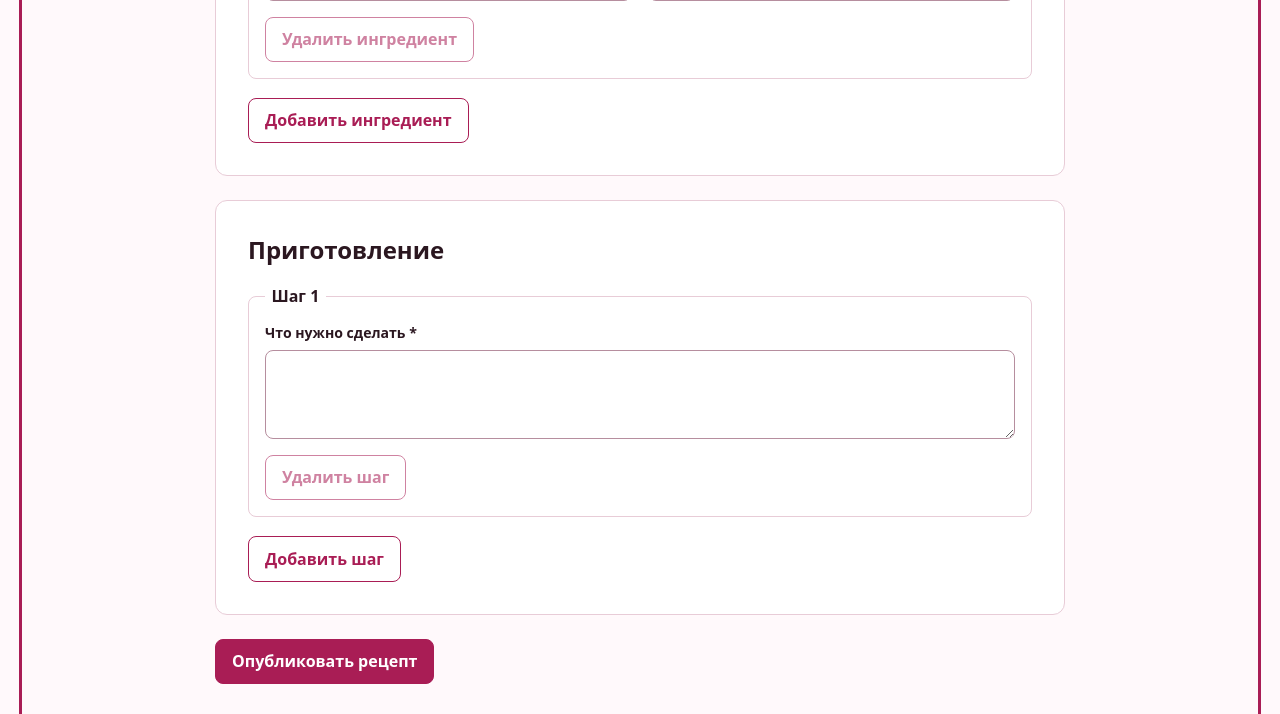
Test: Публикация в общем приложении › фокусирует ошибочное поле при отправке пустой формы
(page scrolled)
Click the button "Опубликовать рецепт": click(325, 661) [215, 638, 434, 684]
(page scrolled)
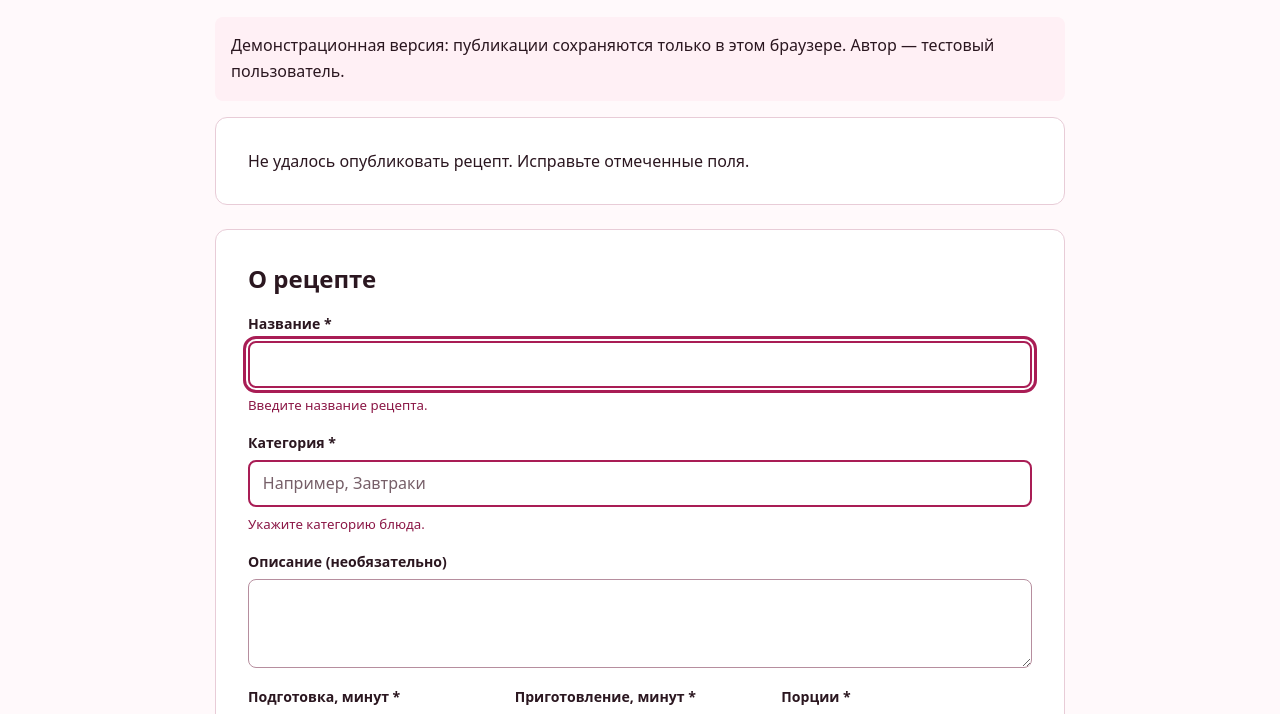
Expected: the message "Не удалось опубликовать рецепт. Исправьте отмеченные поля." is shown, [215, 117, 1065, 205]
